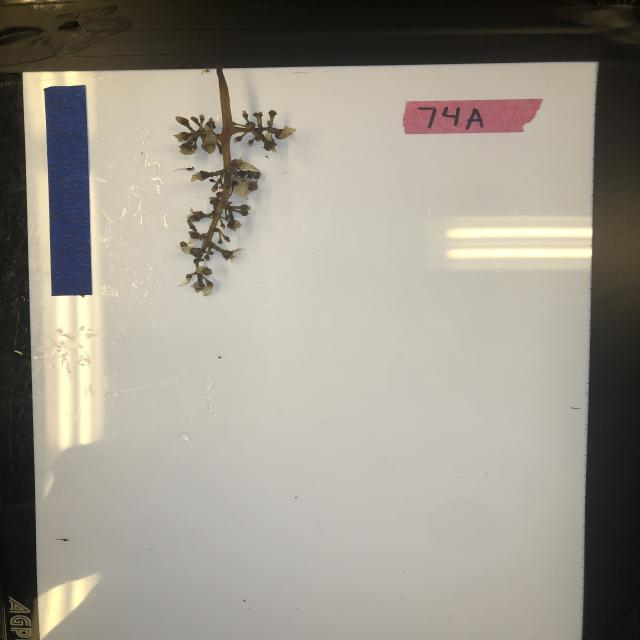index: (402, 97, 544, 135)
measure_label: (42, 84, 94, 297)
rachis_cluster: (172, 56, 301, 303)
